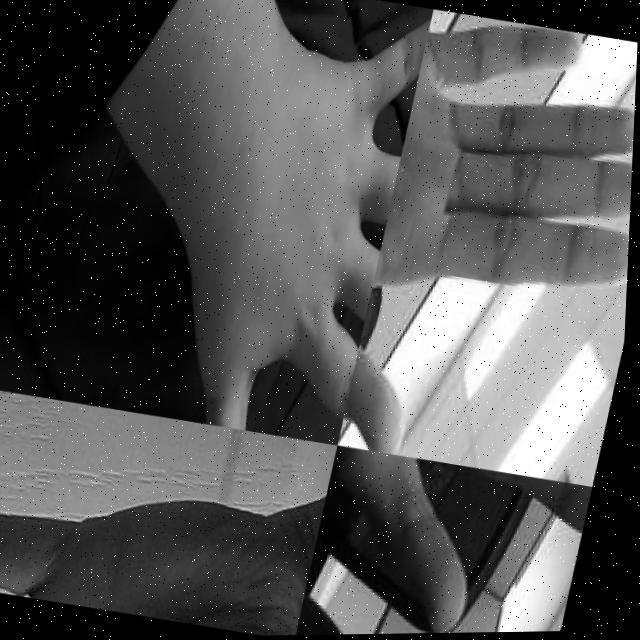no-gloves: (338, 9, 640, 492), (147, 0, 433, 448), (0, 380, 343, 640), (304, 443, 598, 636)
